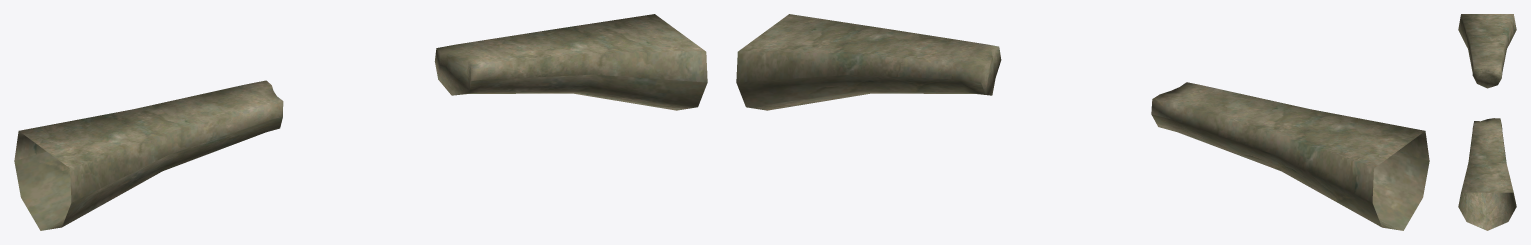
The model's file is OVERHILL_A_01_CAVE_BRIDGE_200.fbx.
3 views of the same model, side by side, from view 1: azimuth 30°, elevation 25°; view 2: azimuth 150°, elevation 25°; view 3: azimuth 270°, elevation 25° (orthographic). The views are drawn at different scales.
Parts seen in each view (by area): view 1: OVERHILL_A_01_CAVE_BRIDGE_200; view 2: OVERHILL_A_01_CAVE_BRIDGE_200; view 3: OVERHILL_A_01_CAVE_BRIDGE_200.
Part boxes in pixels (x1,y1,x2,y2): OVERHILL_A_01_CAVE_BRIDGE_200: (14, 14, 707, 230); OVERHILL_A_01_CAVE_BRIDGE_200: (736, 14, 1429, 230); OVERHILL_A_01_CAVE_BRIDGE_200: (1458, 14, 1516, 230).
Size of the model in its own units: 110916 by 19637 by 17143.
Materials: 1 (1 with a texture image).
